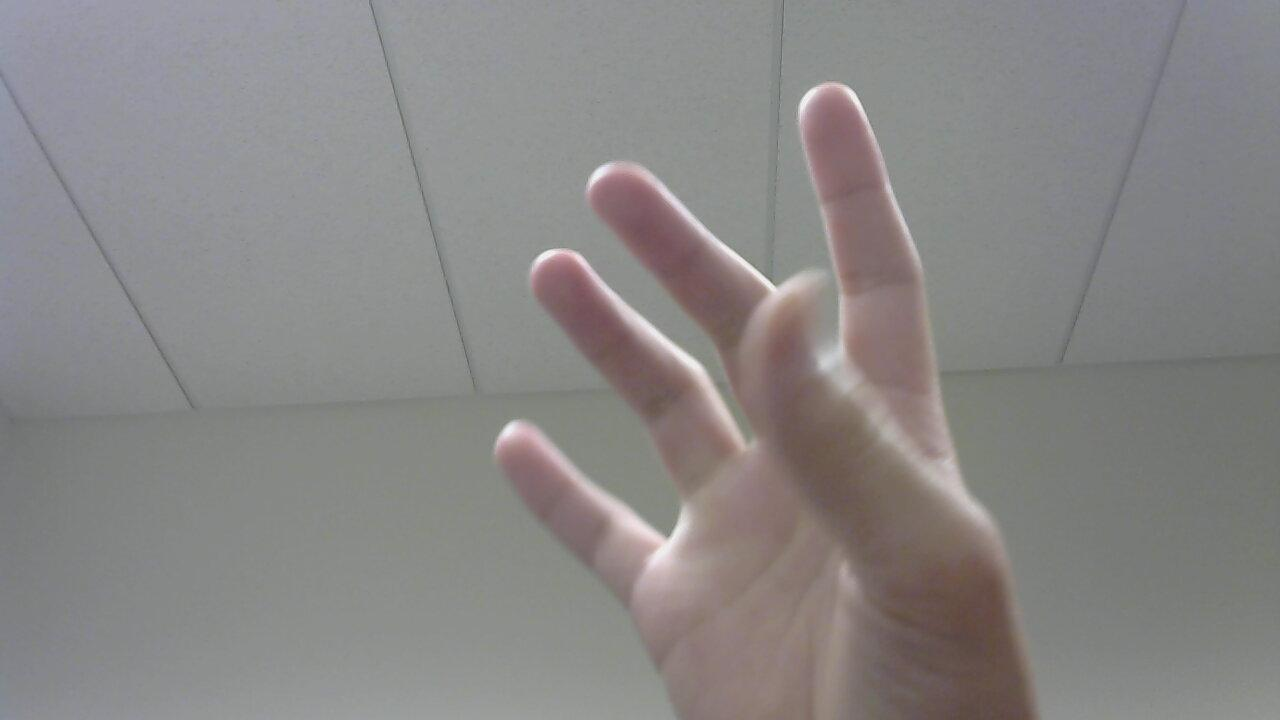hands: (484, 68, 1052, 720)
